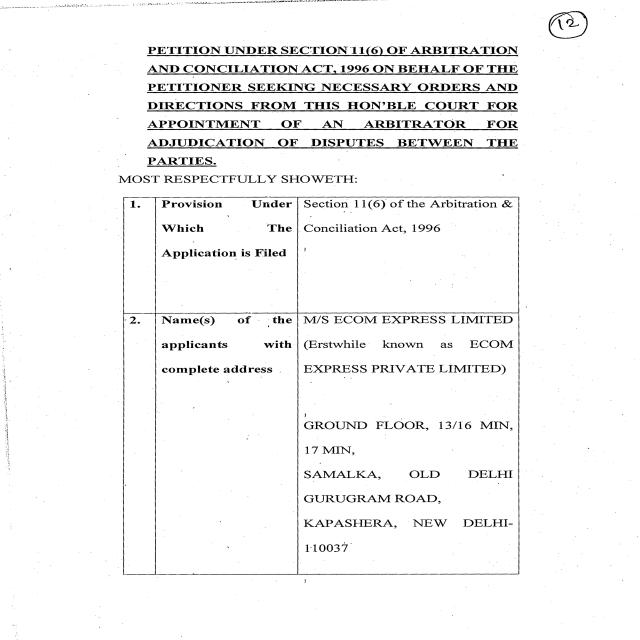page-number: (524, 3, 640, 98)
